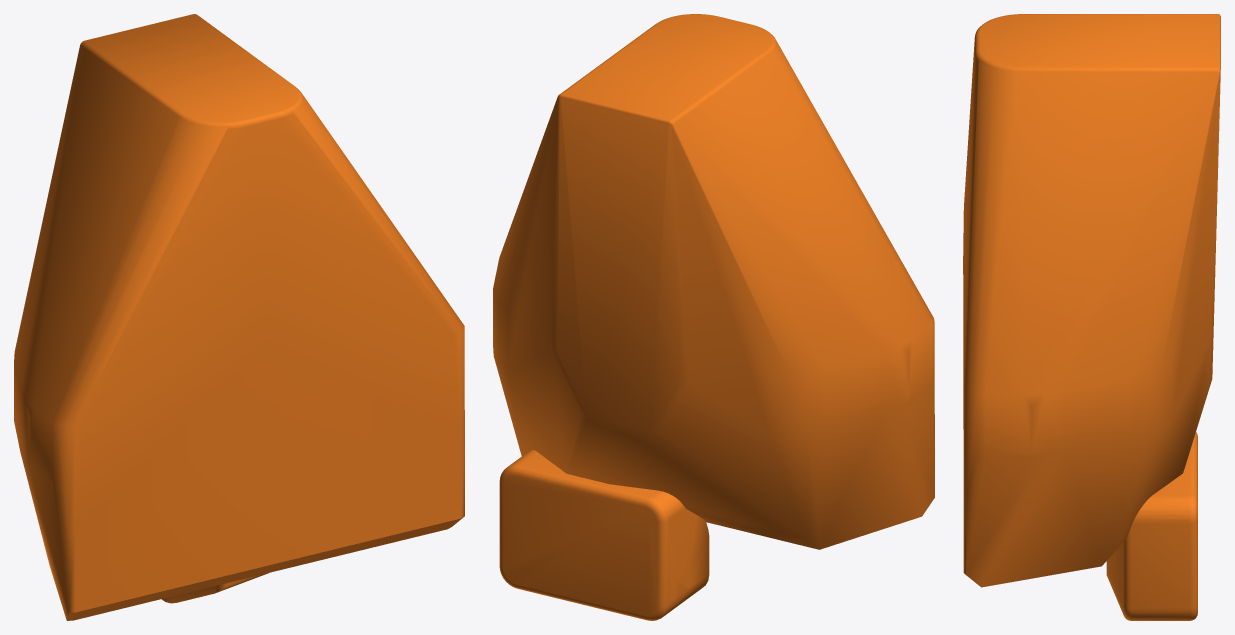
The picture shows the model from 3 angles, left to right: view 1: azimuth 30°, elevation 25°; view 2: azimuth 150°, elevation 25°; view 3: azimuth 270°, elevation 25°; orthographic projection. The views are drawn at different scales.
Visible parts, largest first — view 1: gripper_frame; view 2: gripper_frame; view 3: gripper_frame.
Part boxes in pixels (box(x1,y1,x2,y2)): gripper_frame: box(14, 14, 464, 620); gripper_frame: box(493, 14, 934, 620); gripper_frame: box(963, 14, 1220, 620).
Bounding box in the file's own units: 0.172 × 0.2129 × 0.0948.
